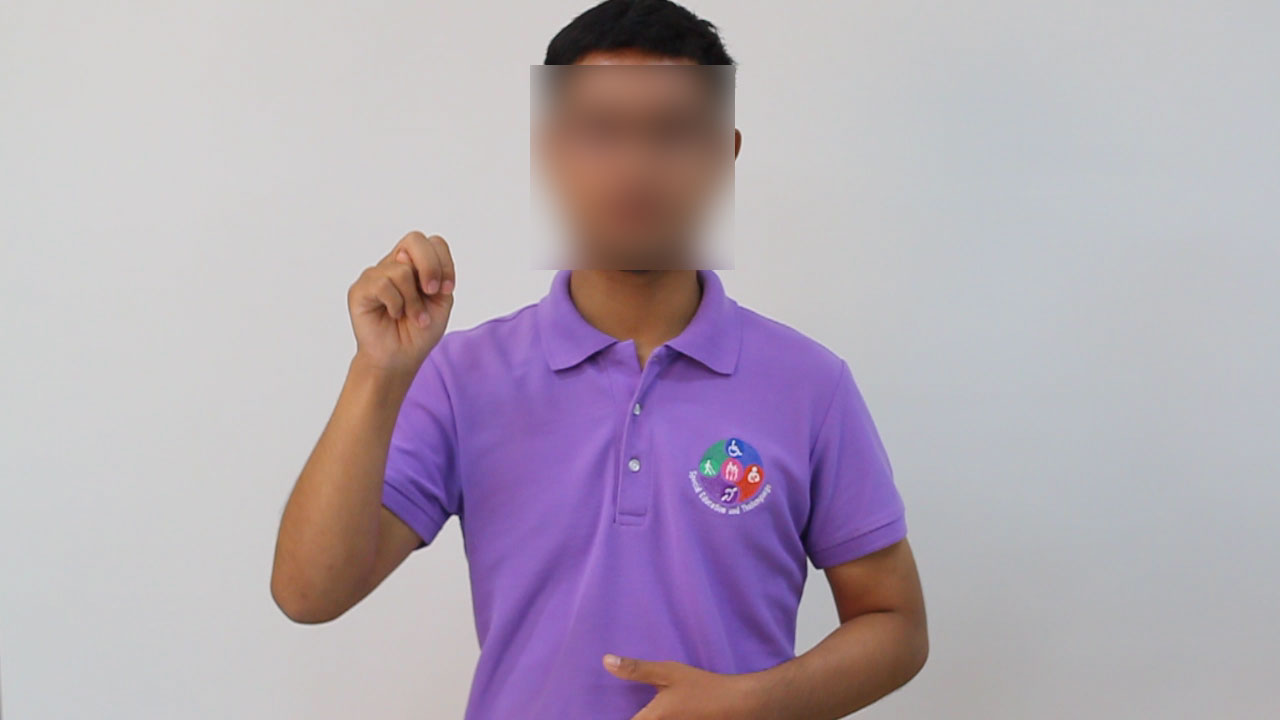nor: (334, 224, 464, 370)
